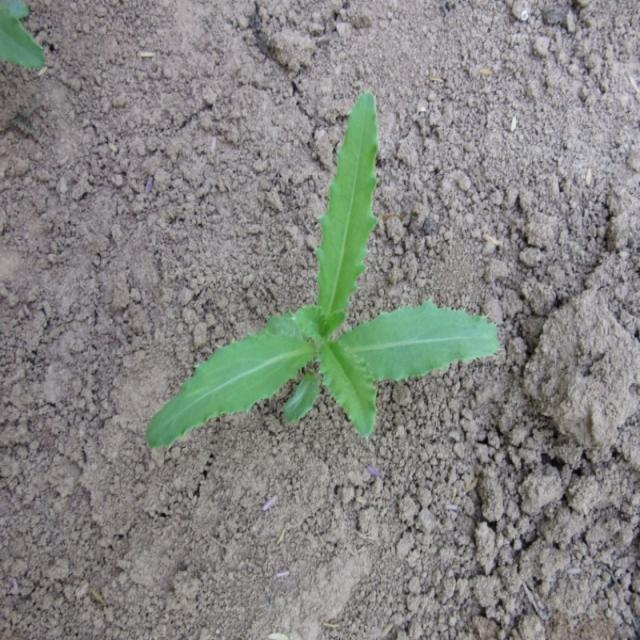cs: (140, 86, 506, 455)
